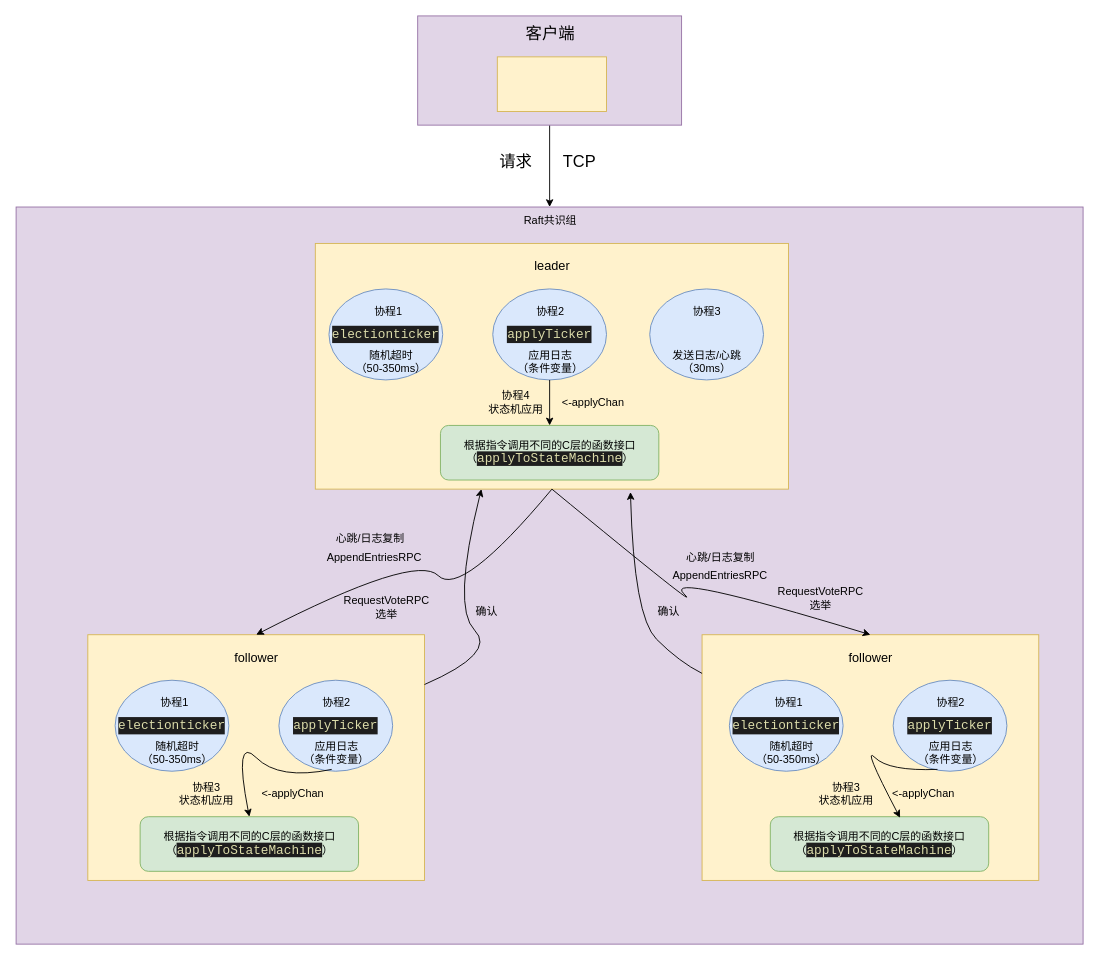
The diagram is 1099 pixels wide and 960 high, and some of its shapes have lost their labels. Each missing label, with the box of its shape:
client: (496, 56, 607, 111)
replicationTicker: (649, 288, 763, 380)
